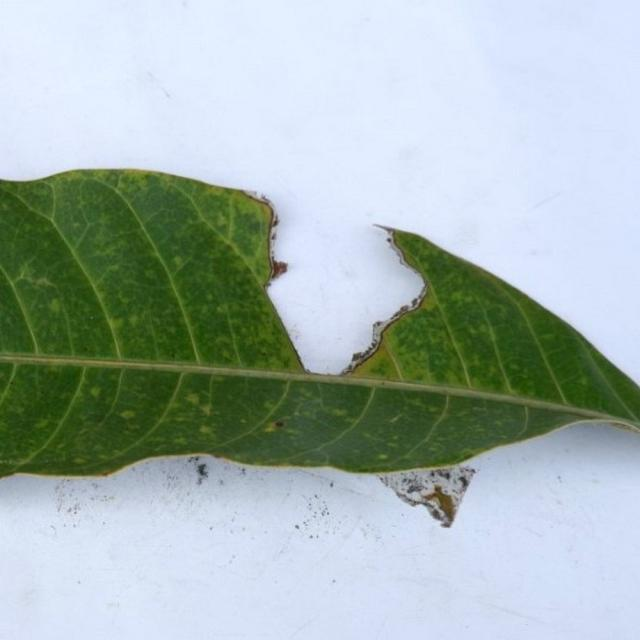Mango: (0, 170, 639, 476)
Powdery_Mildew: (93, 296, 201, 360), (27, 275, 59, 290), (181, 389, 200, 408), (263, 419, 285, 432), (372, 320, 386, 333), (351, 351, 366, 363), (388, 413, 404, 424), (119, 410, 136, 420), (33, 419, 50, 429), (49, 299, 61, 313), (110, 318, 123, 330), (332, 408, 348, 417), (200, 403, 212, 414), (89, 387, 101, 398), (173, 256, 184, 267), (540, 333, 555, 341), (199, 426, 213, 434), (578, 376, 588, 386), (398, 305, 409, 314), (73, 457, 87, 464), (217, 306, 227, 315), (274, 420, 284, 428), (377, 454, 389, 460), (411, 297, 419, 306), (510, 364, 520, 371), (390, 435, 400, 441)
